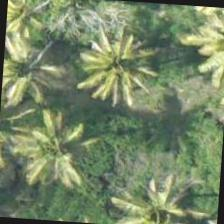Kelapa_Sawit: (12, 98, 108, 194), (72, 18, 168, 114), (0, 22, 73, 116), (112, 163, 208, 223)
